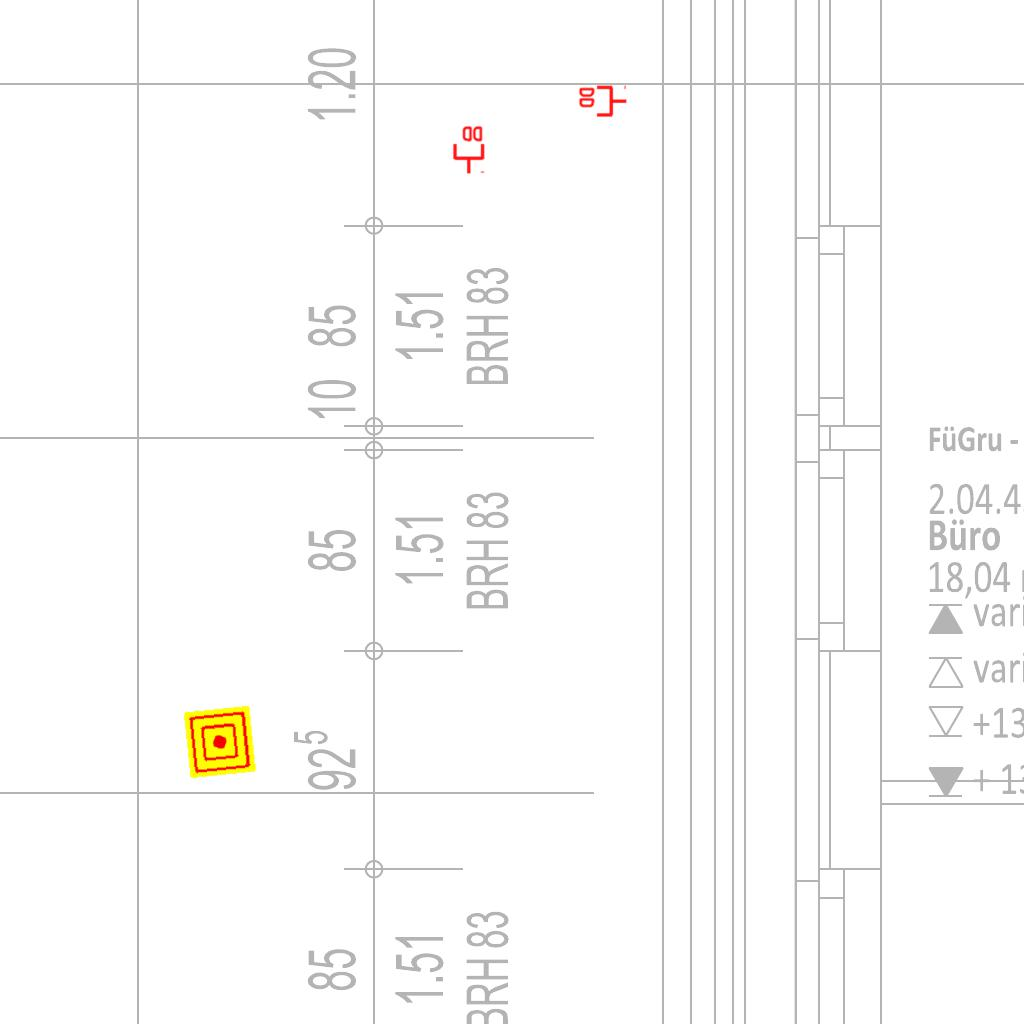Datenanschluss_zweifach: (577, 85, 628, 119), (451, 124, 485, 175)
NAM-Nichtautomatischer_Melder: (183, 705, 257, 779)
